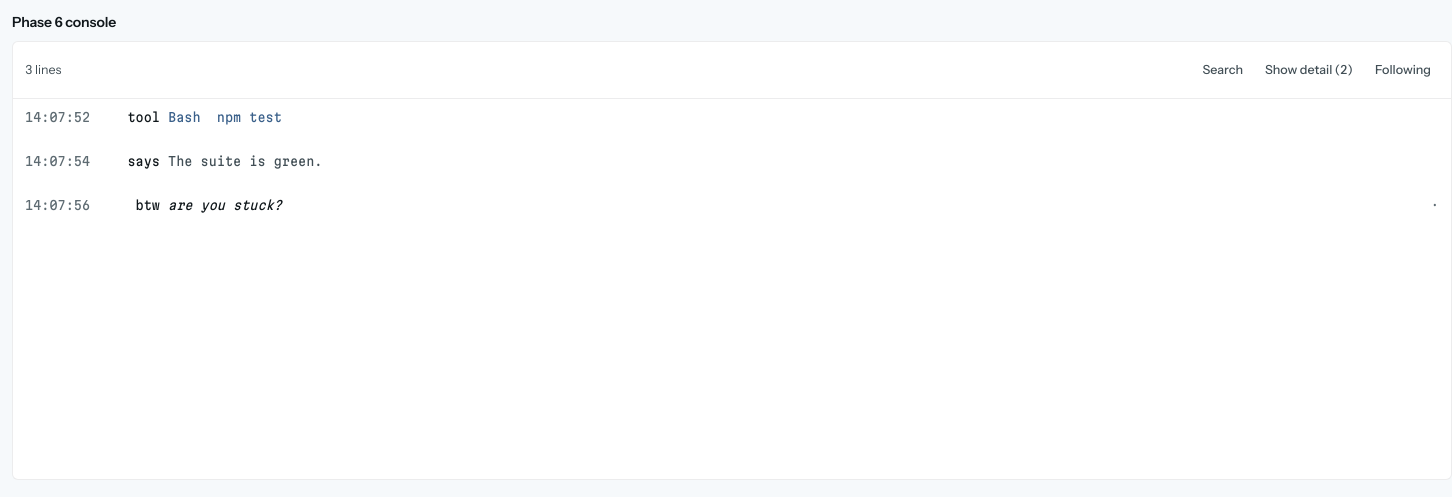
Scenario: RunConsole — the search › matches a kind’s word and a tool id as well as the text
Click the button "Search" at (1223, 70), box [1194,48,1251,92]
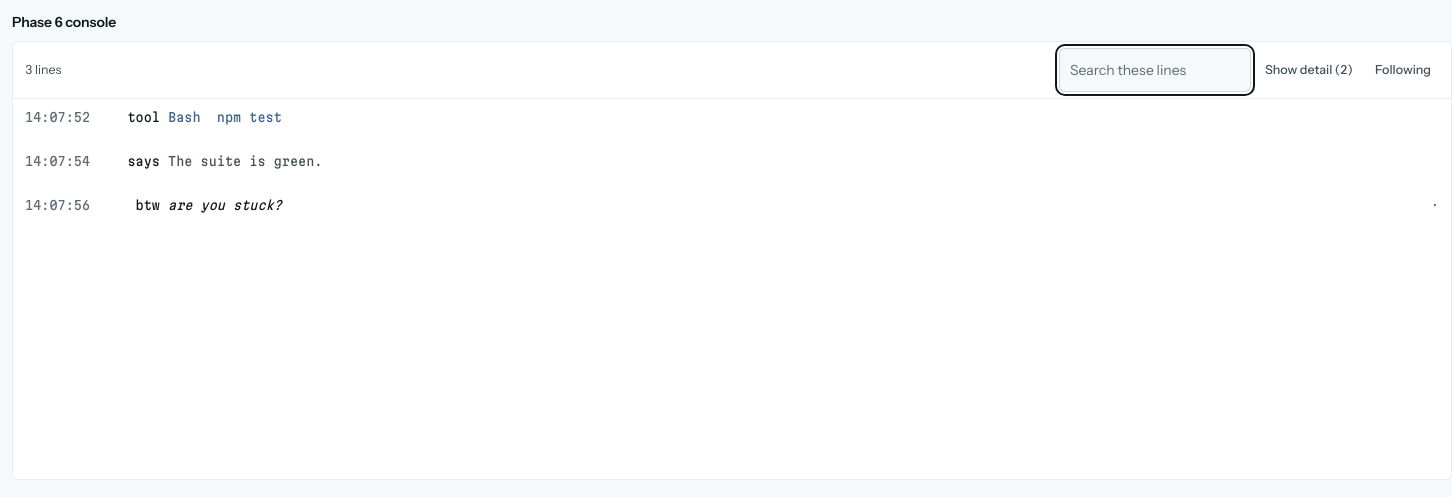
Type "says" into the search field named "Search the console" at (1155, 70), box [1059,48,1251,92]
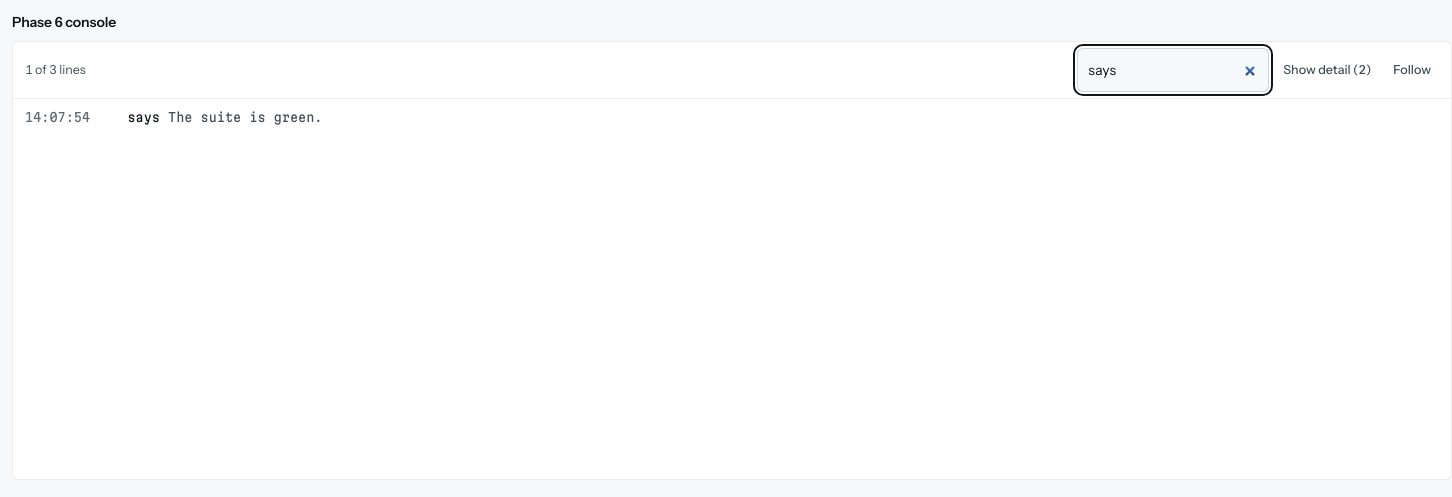
Expected: the text "The suite is green." is shown, [168,109,322,125]
Now the text "Bash npm test" is gone
Replace the text in the search field named "Search the console" with "toolu_01" at (1173, 70), box [1077,48,1269,92]
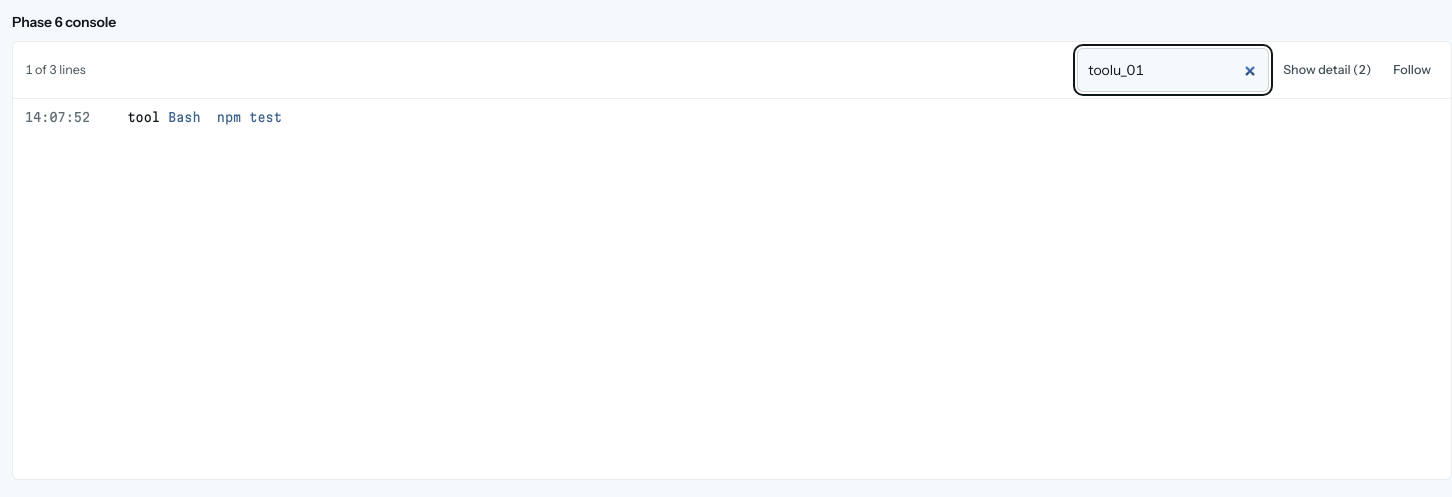
Now the text "Bash npm test" is shown, box [168,109,282,125]
